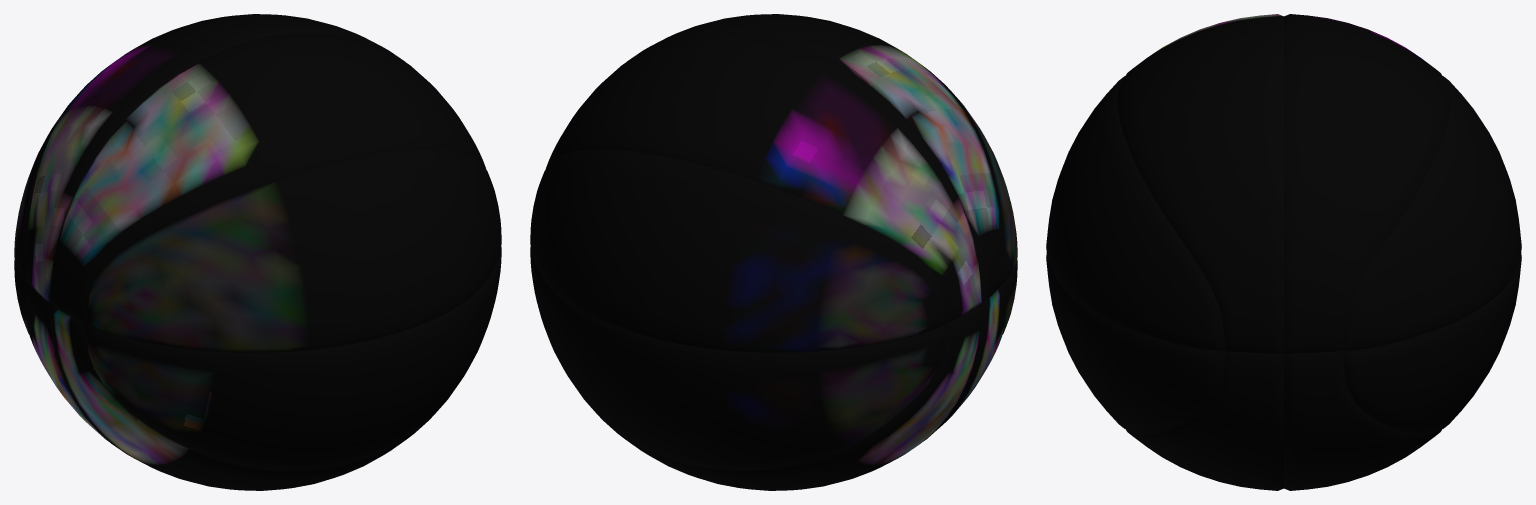
The model's file is Ball_LuminousAirplane_SM.glb.
3 renders of one model, left to right at view 1: azimuth 30°, elevation 25°; view 2: azimuth 150°, elevation 25°; view 3: azimuth 270°, elevation 25°, orthographic.
Visible parts, largest first — view 1: Ball_LuminousAirplane_SM; view 2: Ball_LuminousAirplane_SM; view 3: Ball_LuminousAirplane_SM.
Part boxes in pixels (box(x1,y1,x2,y2)): Ball_LuminousAirplane_SM: box(14, 14, 501, 490); Ball_LuminousAirplane_SM: box(530, 14, 1017, 490); Ball_LuminousAirplane_SM: box(1046, 14, 1521, 490).
Bounding box in the file's own units: 1.92 × 1.89 × 1.89.
Materials: 1 (1 with a texture image).
